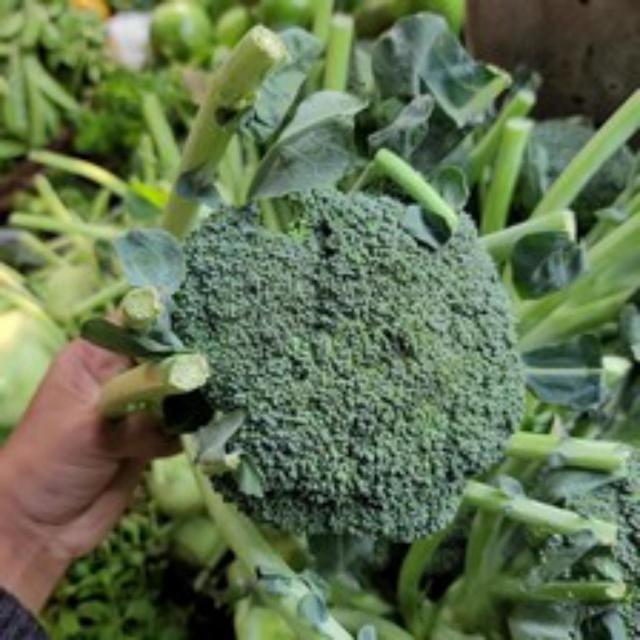broccoli: (132, 173, 546, 556)
